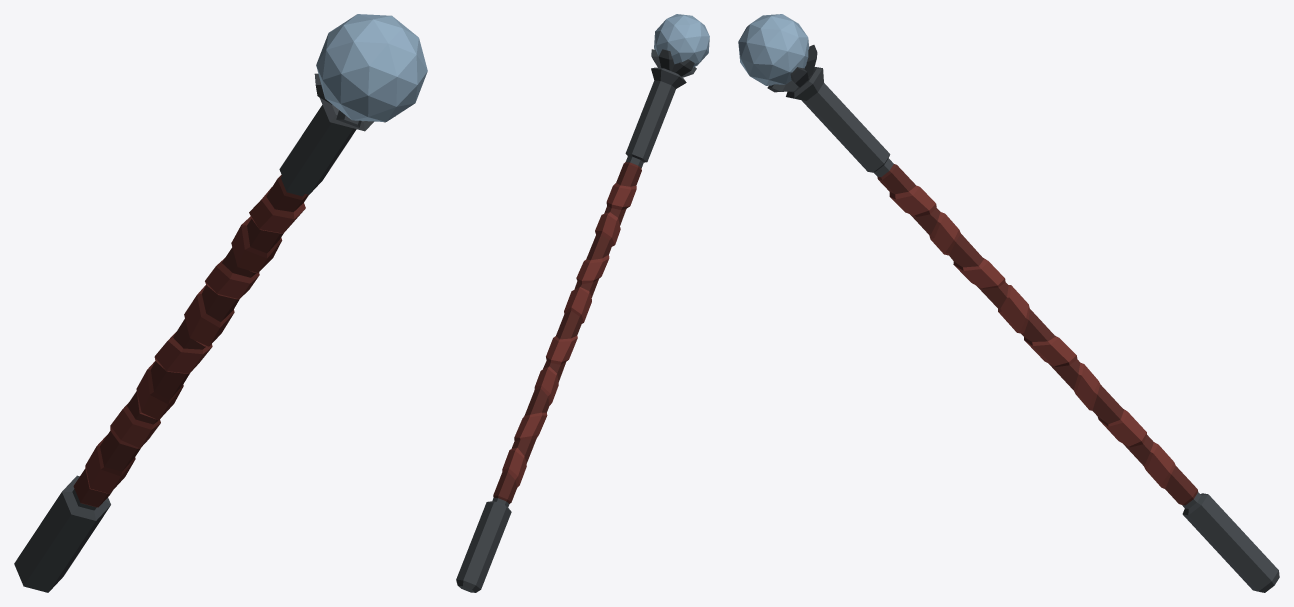
Rendered from fk-staff-01.glb.
The picture shows the model from 3 angles, left to right: view 1: azimuth 30°, elevation 25°; view 2: azimuth 150°, elevation 25°; view 3: azimuth 270°, elevation 25°; orthographic projection. The views are drawn at different scales.
Visible parts, largest first — view 1: fk-staff-01; view 2: fk-staff-01; view 3: fk-staff-01.
Boxes of the visible parts, left/top/right/bottom form: fk-staff-01: left=14, top=14, right=427, bottom=592; fk-staff-01: left=456, top=14, right=709, bottom=592; fk-staff-01: left=738, top=14, right=1279, bottom=592.
Bounding box in the file's own units: 0.1527 × 1.16 × 1.01.
Materials: 1 (1 with a texture image).
